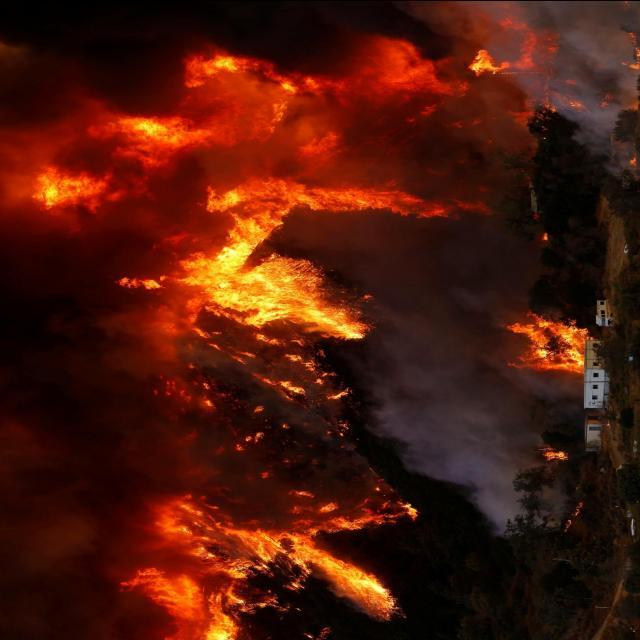Fire: (34, 19, 588, 374), (131, 494, 425, 640)
